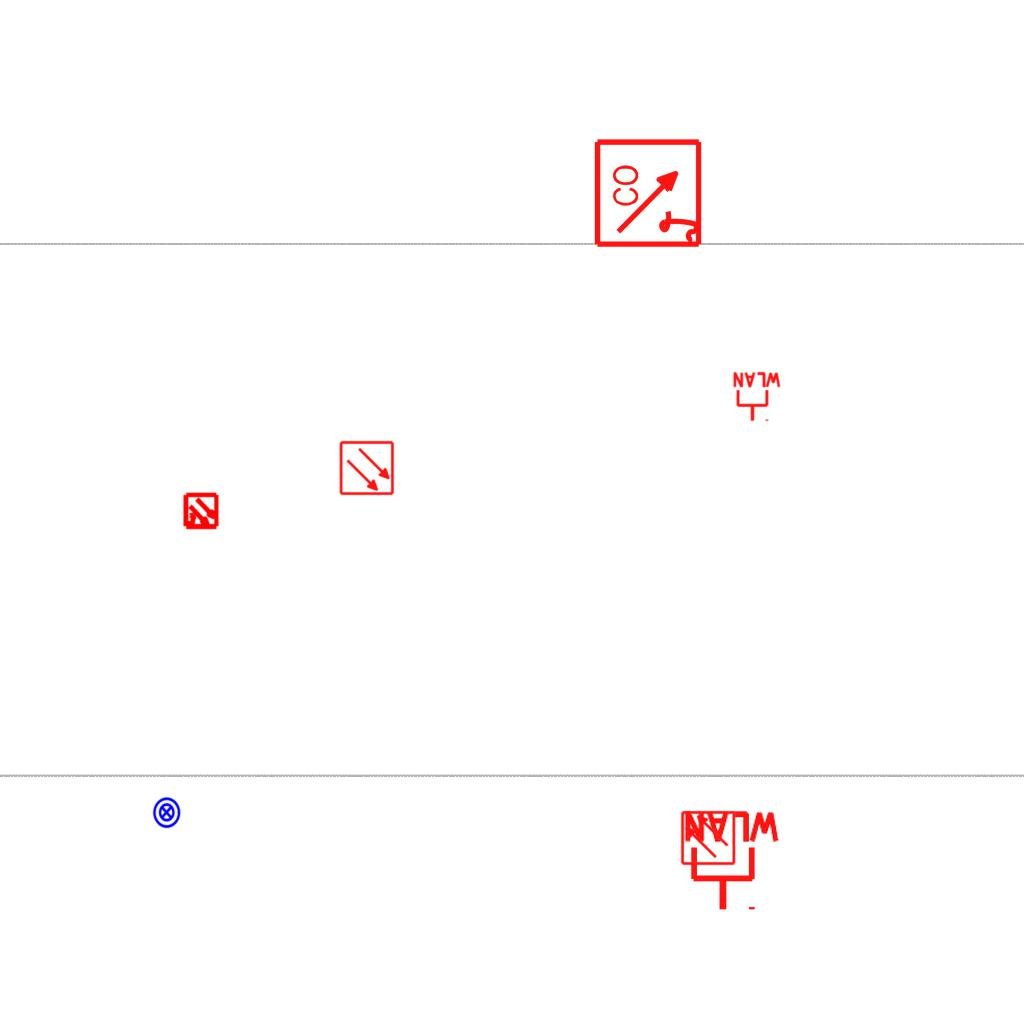OT_Multisensormelder_(Kombination_RMO_WMD): (172, 483, 230, 541)
RMO_Rauchmelder_optischer: (339, 440, 395, 496), (680, 810, 736, 866)
ROA_Rauchmelder_optisch_mit_Signalgeber_(Sockelsirene): (593, 136, 706, 249)
Taster_beleuchtet: (150, 796, 183, 829)
WLAN: (680, 809, 784, 914), (731, 371, 783, 423)
